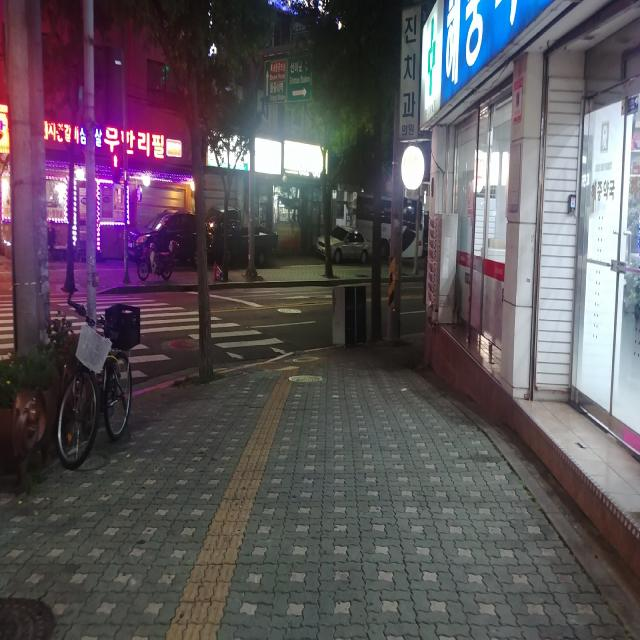빨간불: (113, 157, 123, 184)
횡단보도: (0, 292, 288, 386)
